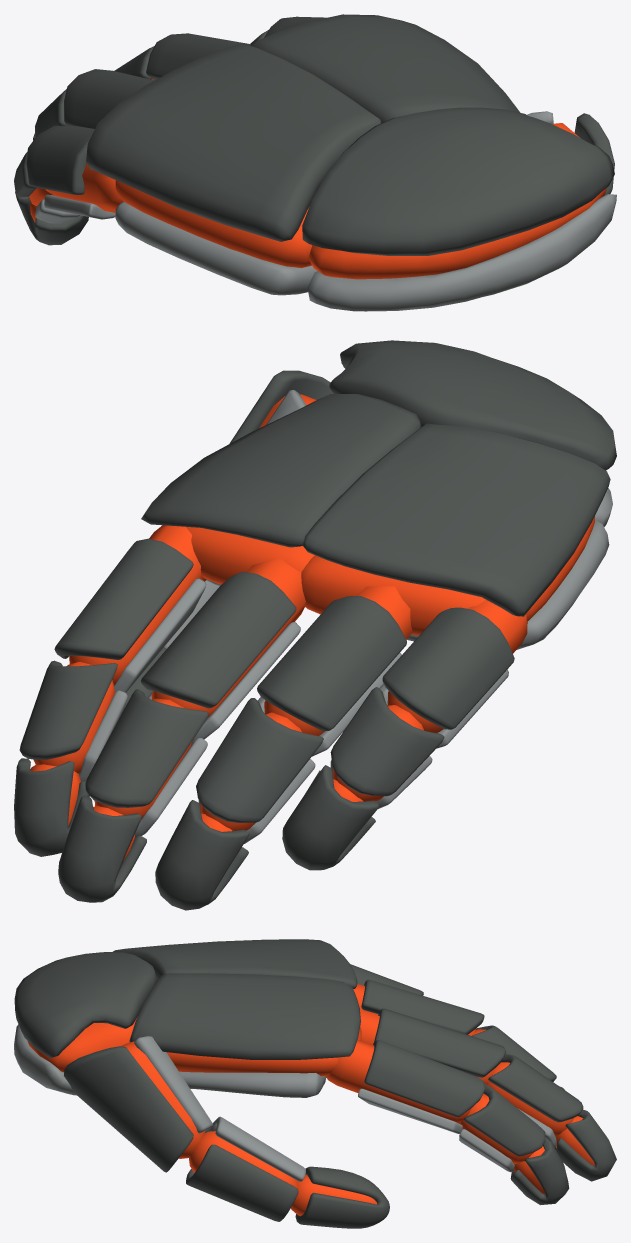
The model's file is xsens_LeftHand.dae.
3 views of the same model, one above another, from view 1: azimuth 30°, elevation 25°; view 2: azimuth 150°, elevation 25°; view 3: azimuth 270°, elevation 25° (orthographic). The views are drawn at different scales.
Visible parts, largest first — view 1: LeftHand; view 2: LeftHand; view 3: LeftHand.
Boxes of the visible parts, box(x1,y1,x2,y2) form: LeftHand: box(14, 14, 616, 311); LeftHand: box(14, 340, 616, 910); LeftHand: box(14, 939, 616, 1228).
Bounding box in the file's own units: 0.1026 × 0.1736 × 0.0653.
